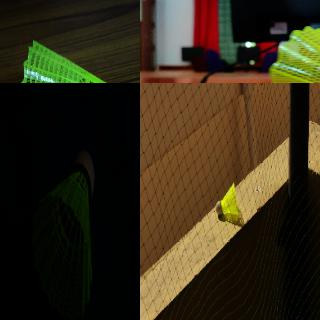shuttlecock: (32, 149, 94, 317), (17, 40, 139, 82), (265, 26, 319, 82), (216, 182, 238, 215)
